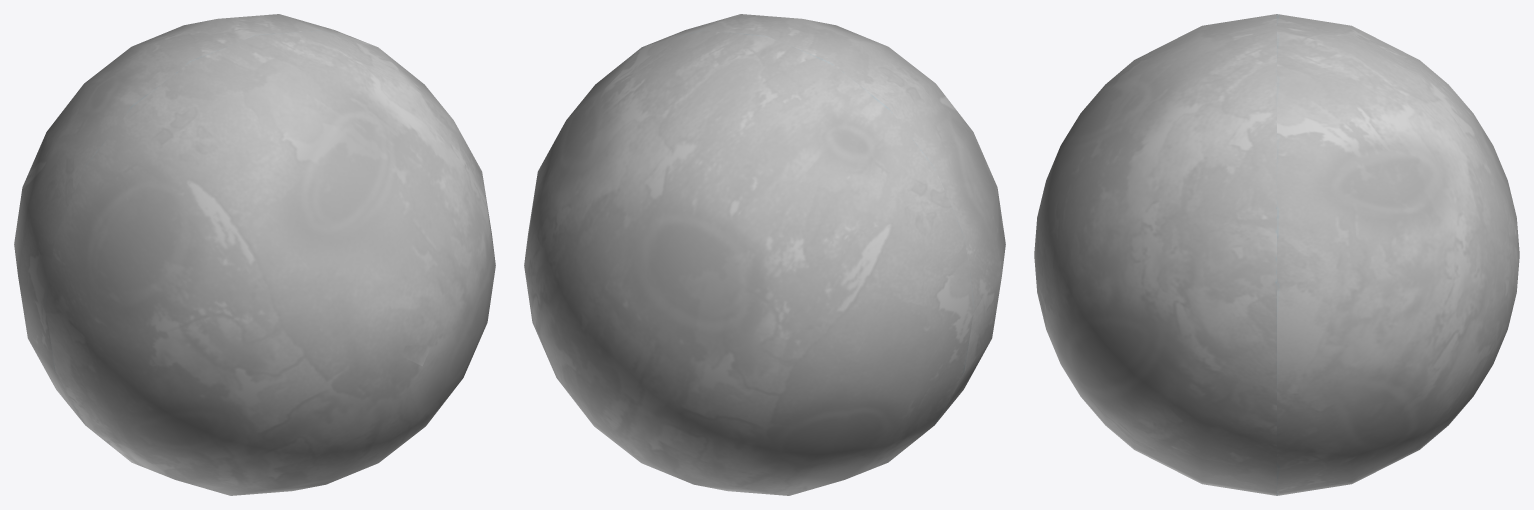
Rendered from Mercurio.glb.
3 renders of one model, left to right at view 1: azimuth 30°, elevation 25°; view 2: azimuth 150°, elevation 25°; view 3: azimuth 270°, elevation 25°, orthographic.
Parts seen in each view (by area): view 1: Planeta; view 2: Planeta; view 3: Planeta.
Part boxes in pixels (x1,y1,x2,y2): Planeta: (14,14,495,495); Planeta: (524,14,1005,495); Planeta: (1034,14,1519,495).
Size of the model in its own units: 0.1129 by 0.1129 by 0.1129.
1 material, 1 textured.
